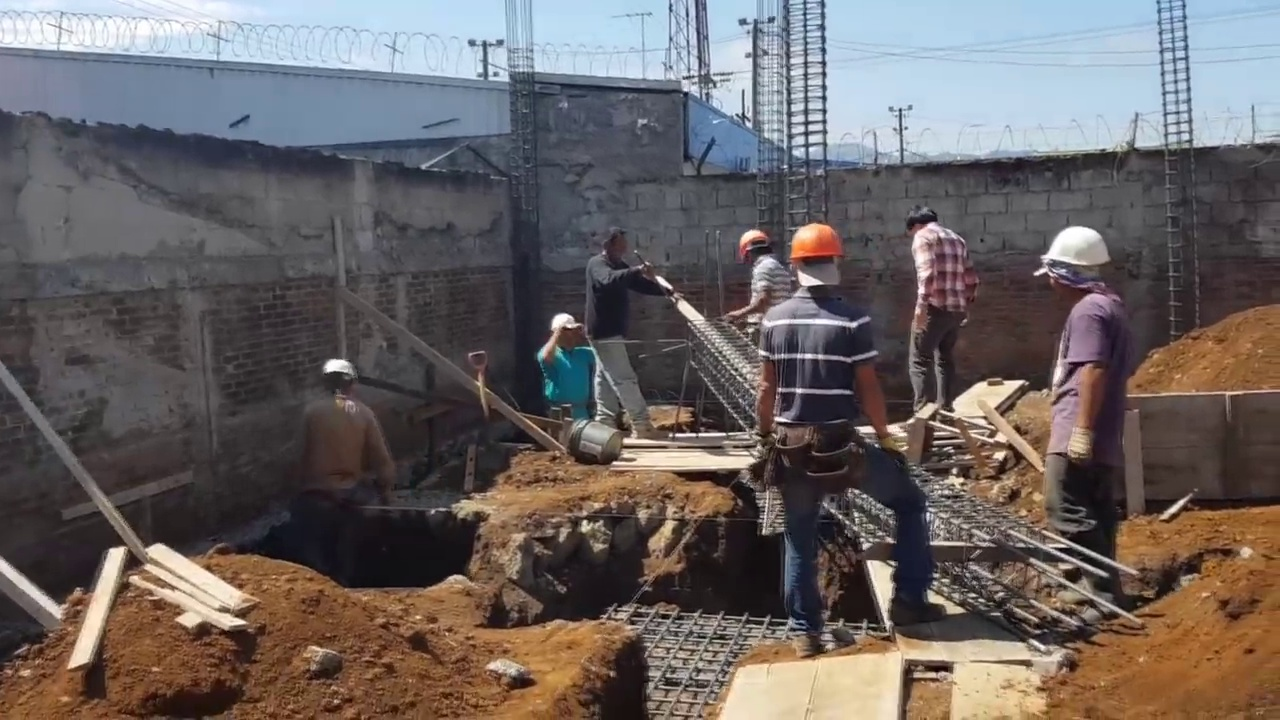helmet: (1043, 224, 1113, 268), (792, 224, 847, 263), (737, 226, 767, 258), (323, 359, 358, 381)
helmet-off: (549, 312, 585, 356), (910, 202, 942, 234), (599, 229, 630, 259)
helmet-on: (1038, 223, 1115, 307), (791, 225, 847, 298), (322, 361, 356, 406), (736, 228, 771, 264)
person: (753, 211, 937, 648), (1036, 221, 1138, 623), (280, 359, 392, 571), (902, 202, 982, 450), (586, 222, 685, 420), (535, 316, 602, 415), (736, 234, 793, 340)
